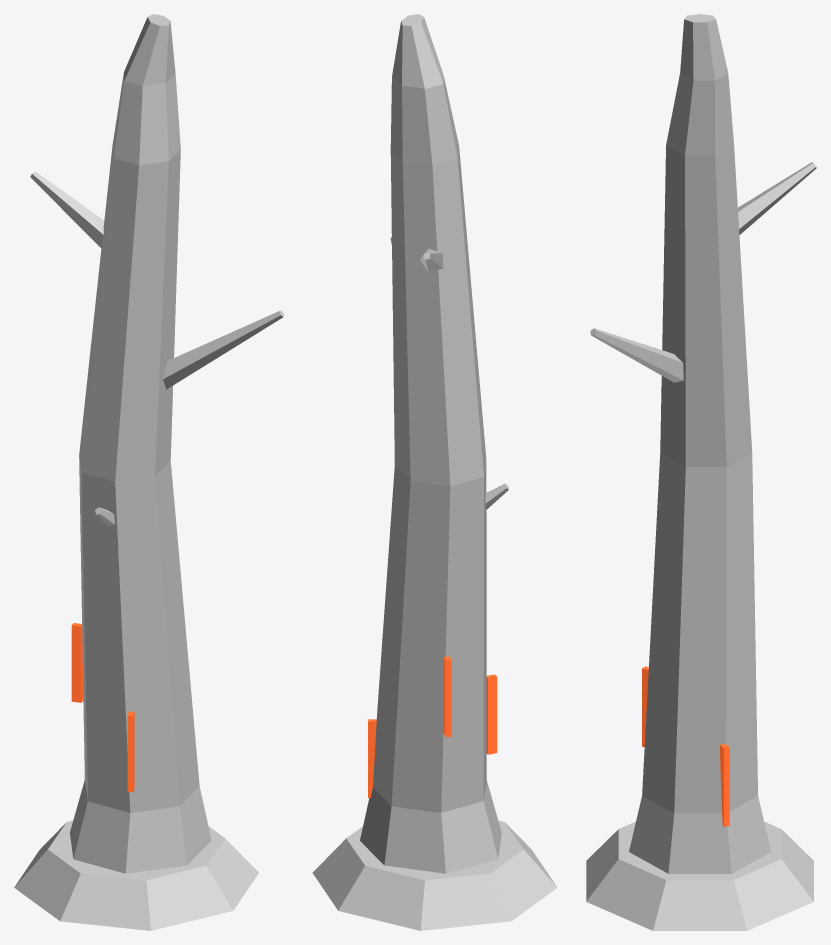
Rendered from bf_snag.glb.
The picture shows the model from 3 angles, left to right: view 1: azimuth 30°, elevation 25°; view 2: azimuth 150°, elevation 25°; view 3: azimuth 270°, elevation 25°; orthographic projection. The views are drawn at different scales.
Visible parts, largest first — view 1: bf_snag; view 2: bf_snag; view 3: bf_snag.
Boxes of the visible parts, x1,y1,x2,y2 form: bf_snag: (14, 14, 283, 930); bf_snag: (312, 14, 557, 930); bf_snag: (586, 14, 816, 930).
Bounding box in the file's own units: 1.15 × 4.7 × 1.12.
